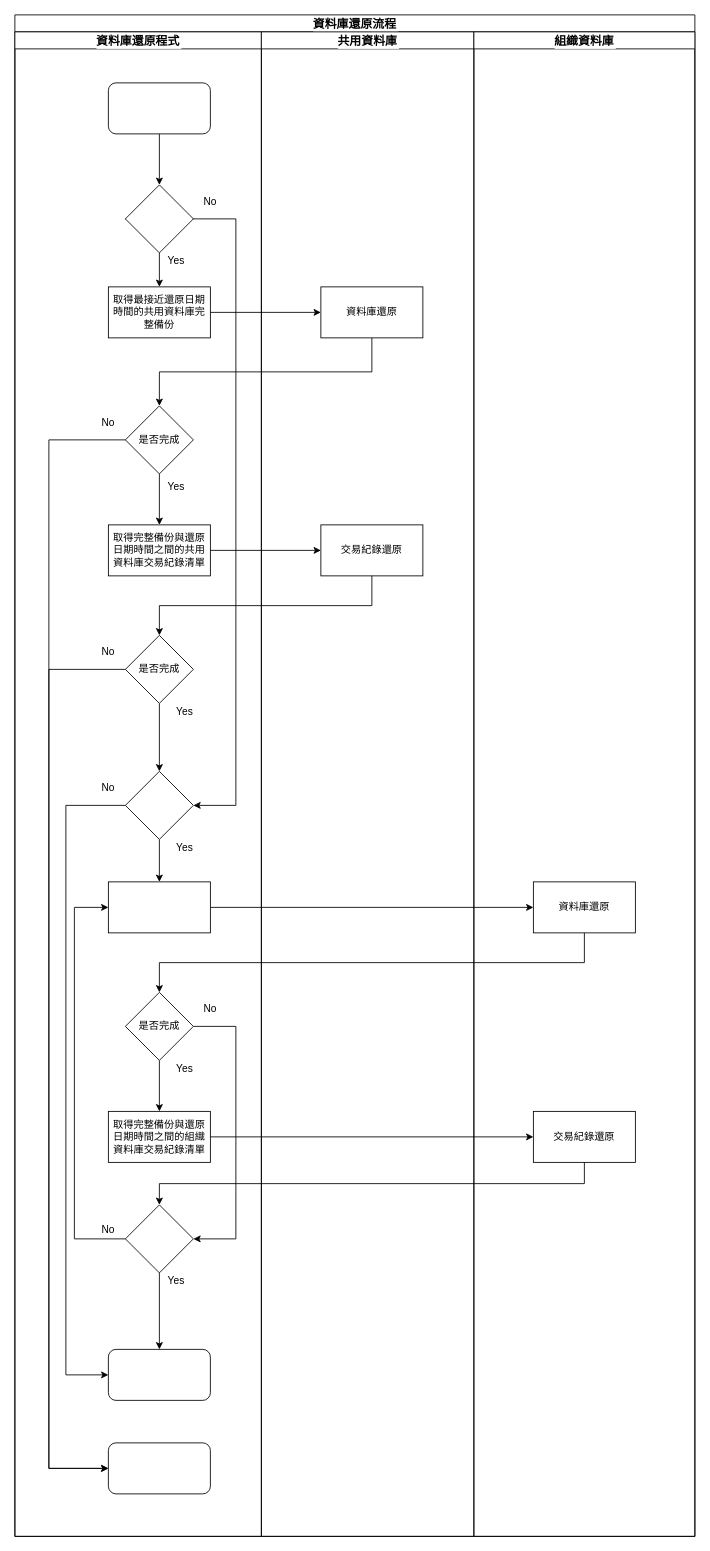
This 710x1551 diagram has some shape labels left out. Each missing label, with the centre of its shape:
取得最接近還原日期時間的 組織資料庫完整備份: pixel 159 907
取得要還原的 資料庫清單: pixel 159 108
執行完畢: pixel 159 1374
所有組織資 料庫還原完成: pixel 159 1238
異常中止人工介入處裡: pixel 159 1468
需還原 共用資料庫: pixel 159 218
需還原 組織資料庫: pixel 159 805
